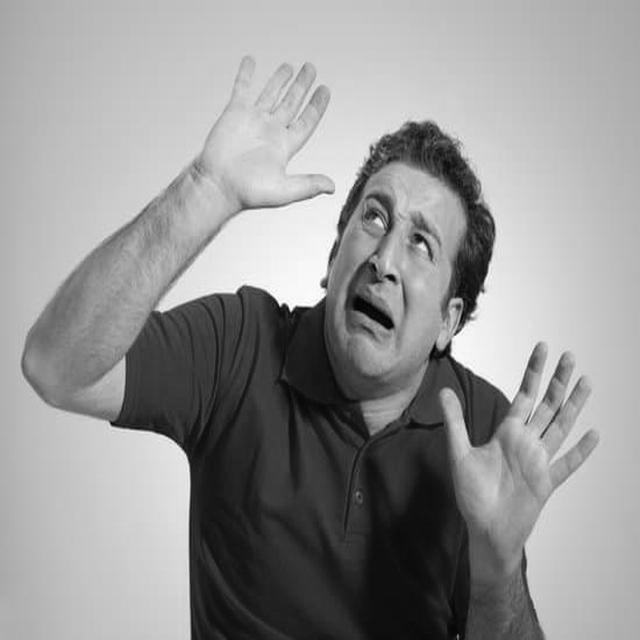Fear: (337, 165, 451, 382)
